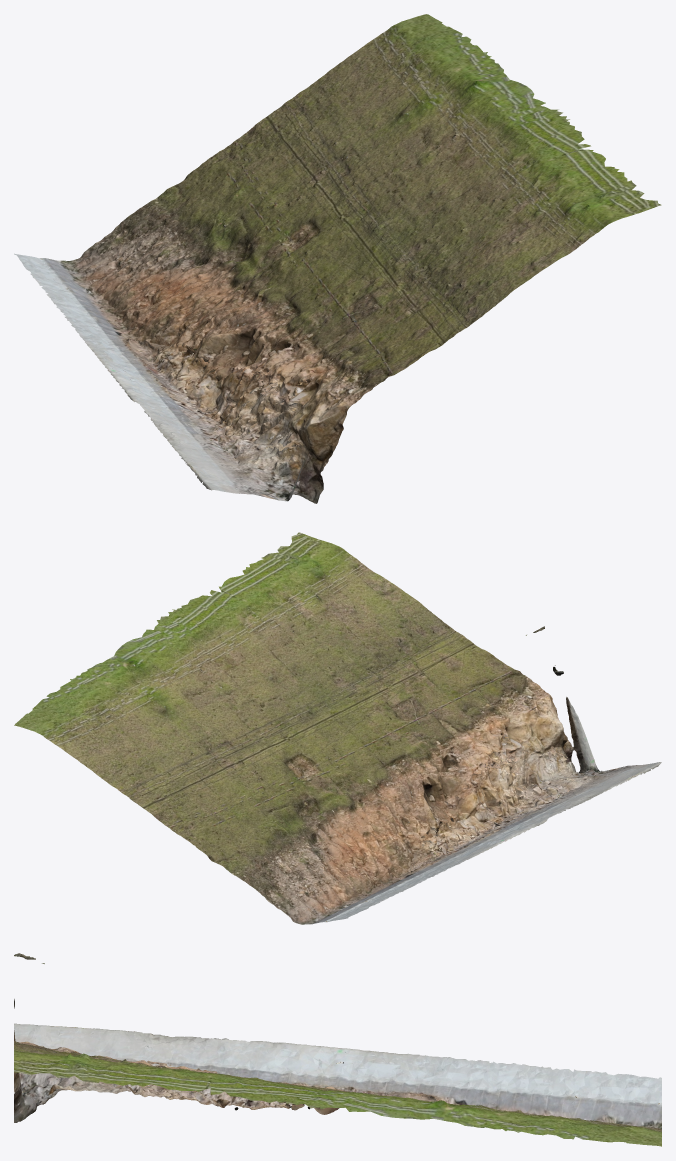
The picture shows the model from 3 angles, top to bottom: view 1: azimuth 30°, elevation 25°; view 2: azimuth 150°, elevation 25°; view 3: azimuth 270°, elevation 25°; orthographic projection. The views are drawn at different scales.
Bounding box in the file's own units: 10.11 × 4.07 × 10.11.
2 materials, 2 textured.
